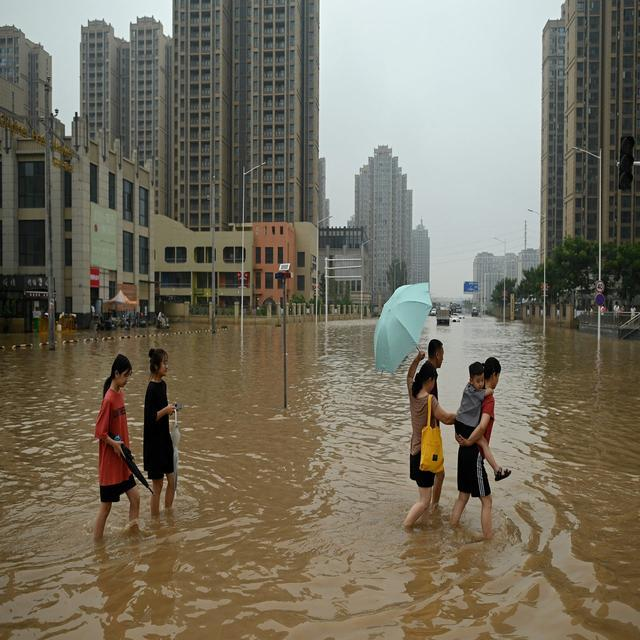Person-RiskLevel2: (88, 351, 154, 540), (449, 351, 511, 544), (397, 336, 456, 533), (138, 344, 190, 519)
